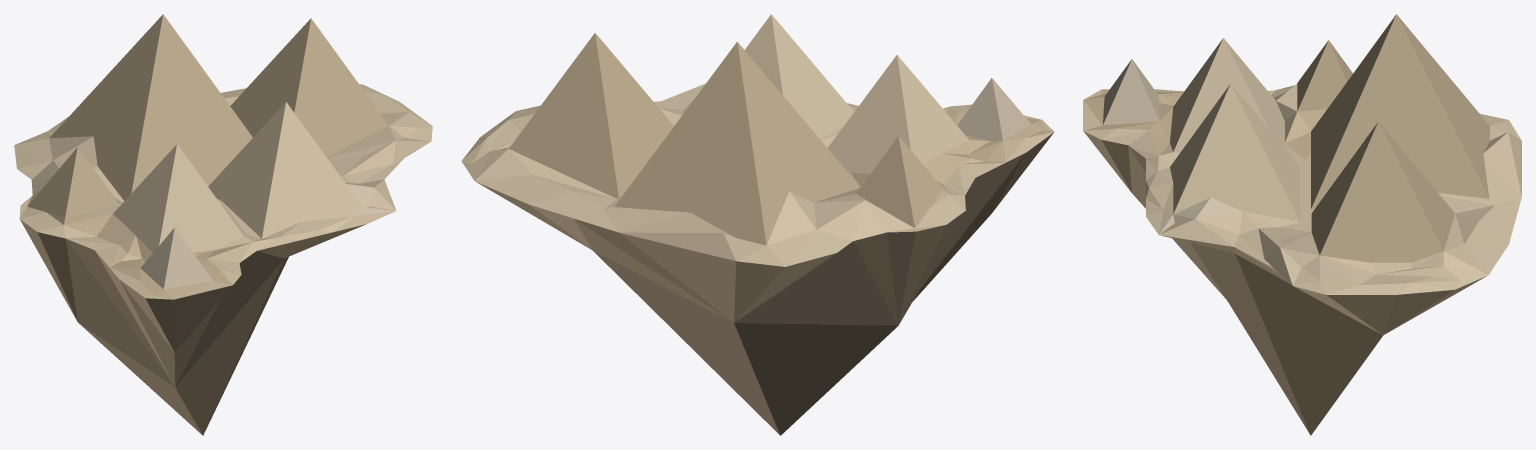
The model's file is Pyramids.dae.
The picture shows the model from 3 angles, left to right: view 1: azimuth 30°, elevation 25°; view 2: azimuth 150°, elevation 25°; view 3: azimuth 270°, elevation 25°; orthographic projection. The views are drawn at different scales.
Visible parts, largest first — view 1: SketchUp (×16); view 2: SketchUp (×21); view 3: SketchUp (×14).
Part boxes in pixels (box(x1,y1,x2,y2)): SketchUp (×16): box(14, 14, 432, 435); SketchUp (×21): box(461, 14, 1054, 435); SketchUp (×14): box(1083, 14, 1521, 435).
Size of the model in its own units: 27644 by 24133 by 25615.
